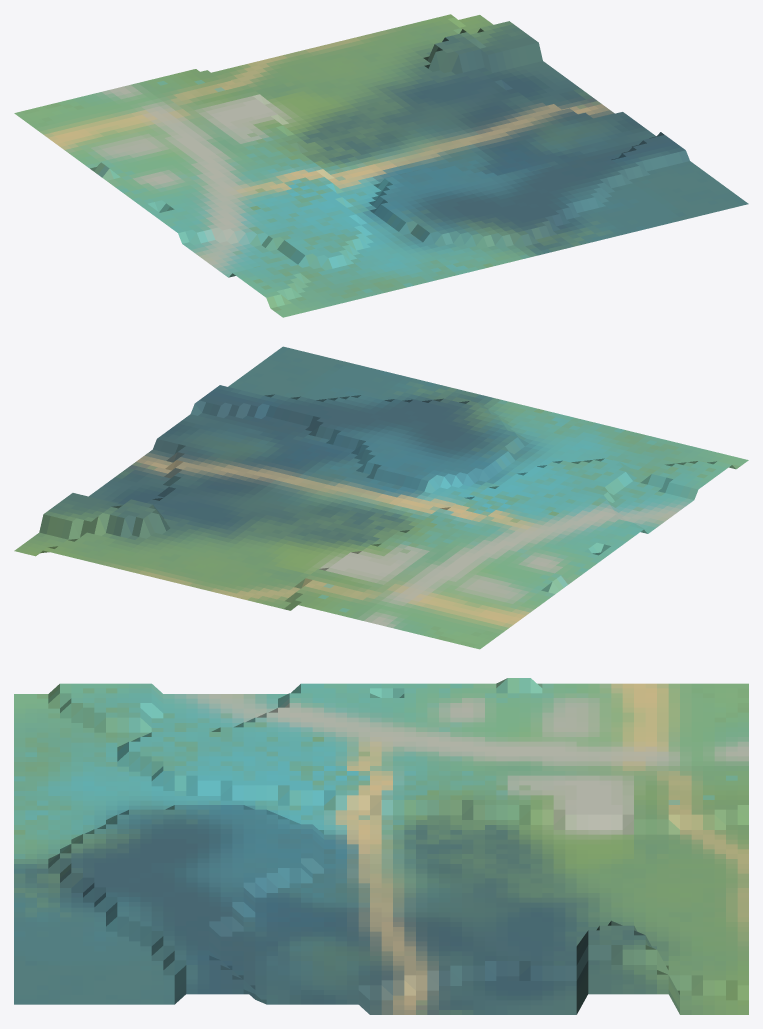
File: test chunk 12.glb
The picture shows the model from 3 angles, top to bottom: view 1: azimuth 30°, elevation 25°; view 2: azimuth 150°, elevation 25°; view 3: azimuth 270°, elevation 25°; orthographic projection. The views are drawn at different scales.
Parts seen in each view (by area): view 1: Chunk 12; view 2: Chunk 12; view 3: Chunk 12.
Part boxes in pixels (bbox=[...]): Chunk 12: bbox=[14, 14, 748, 317]; Chunk 12: bbox=[14, 346, 748, 649]; Chunk 12: bbox=[14, 678, 748, 1014].
Bounding box in the file's own units: 64 × 3 × 64.
1 material, 1 textured.
